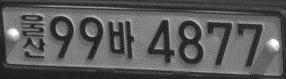4: (147, 19, 175, 62)
7: (236, 21, 262, 67), (207, 21, 232, 65)
8: (178, 19, 204, 64)
9: (49, 15, 74, 58), (79, 16, 104, 59)
바: (107, 20, 134, 59)
울산_V: (20, 14, 45, 57)
